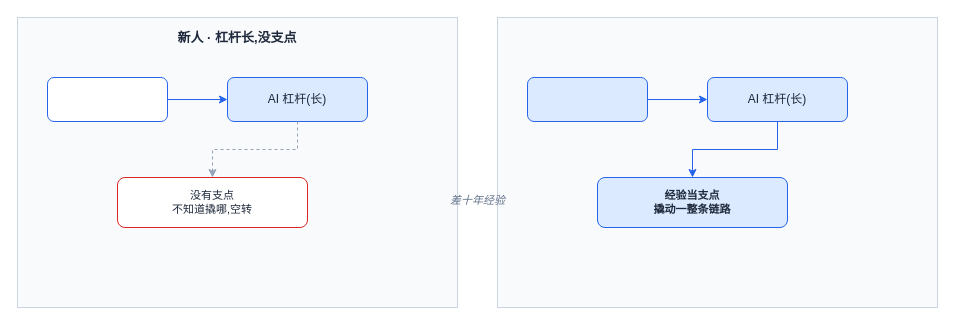
The diagram is 955 pixels wide and 325 high, and some of its shapes have lost their labels. Each missing label, with the box of its shape:
力气小: (46, 76, 168, 122)
经验: (526, 76, 648, 122)
老兵 · 杠杆长,支点稳: (496, 16, 938, 308)
